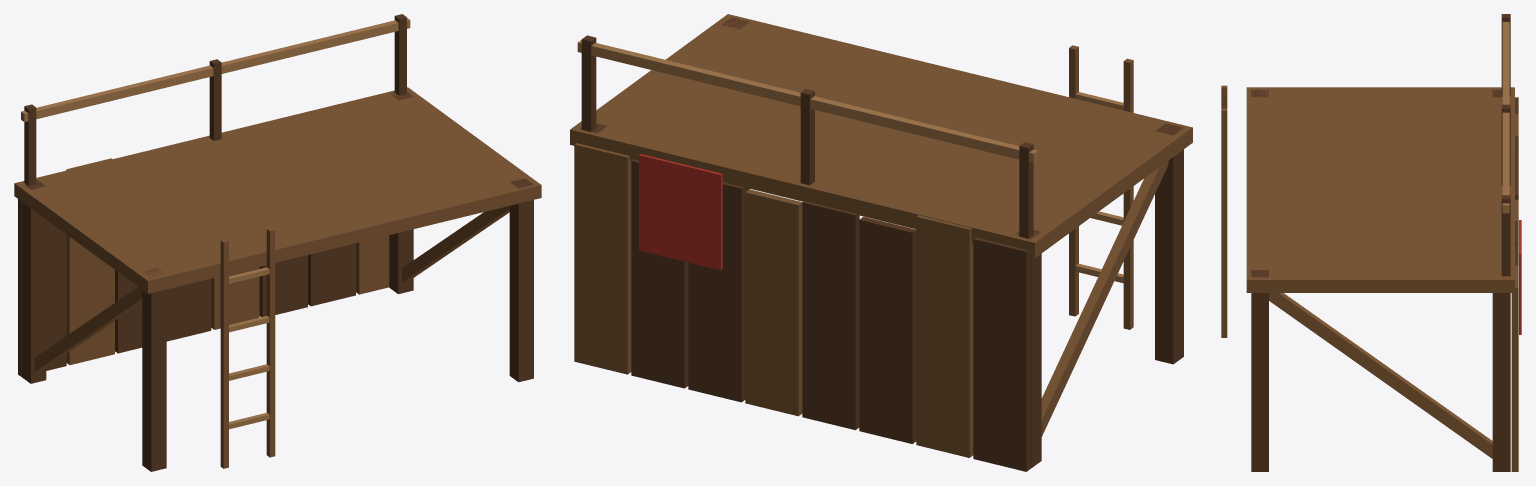
Rendered from SM_YardPlatform.fbx.
The picture shows the model from 3 angles, left to right: view 1: azimuth 30°, elevation 25°; view 2: azimuth 150°, elevation 25°; view 3: azimuth 270°, elevation 25°; orthographic projection. The views are drawn at different scales.
Visible parts, largest first — view 1: SM_YardPlatform; view 2: SM_YardPlatform; view 3: SM_YardPlatform.
Part boxes in pixels (<box>): SM_YardPlatform: <box>14,14,541,471</box>; SM_YardPlatform: <box>570,14,1192,471</box>; SM_YardPlatform: <box>1221,14,1521,471</box>.
Bounding box in the file's own units: 5.1 × 3.36 × 3.35.
